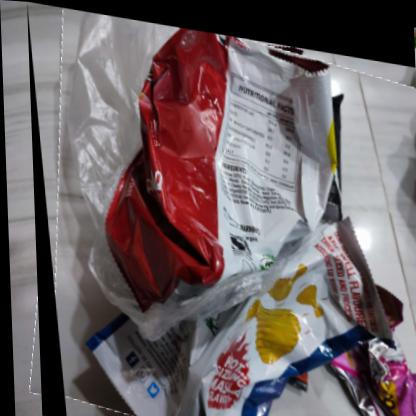Garbage: (28, 2, 416, 416)
